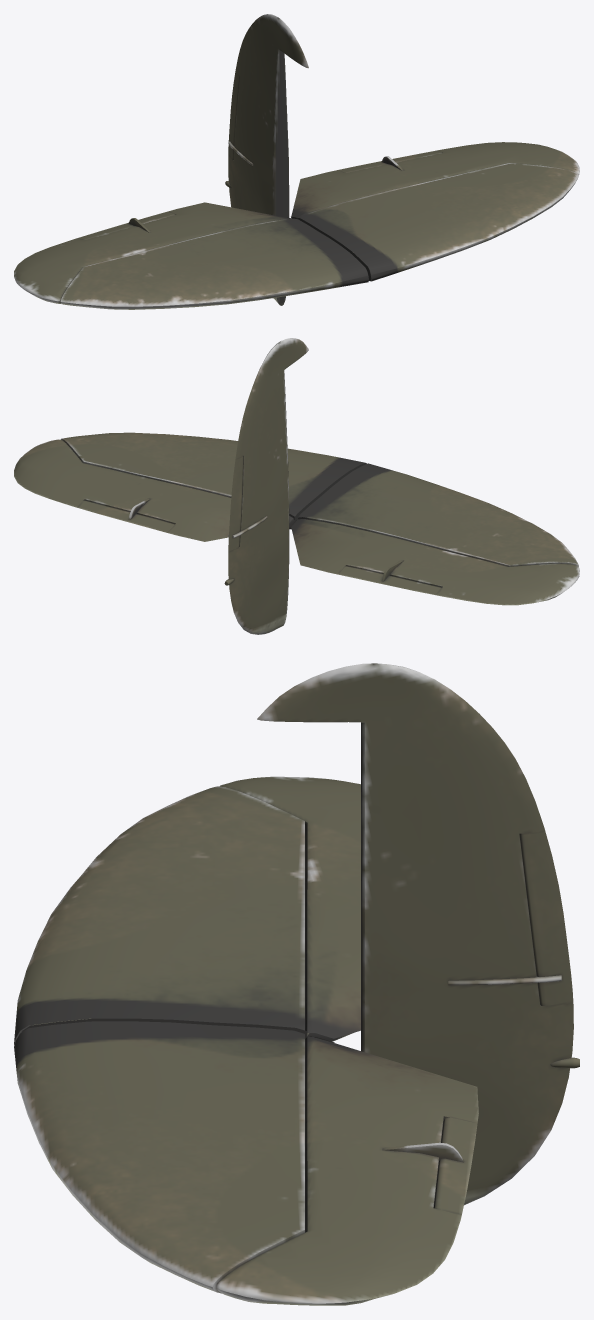
File: tail.fbx
The picture shows the model from 3 angles, top to bottom: view 1: azimuth 30°, elevation 25°; view 2: azimuth 150°, elevation 25°; view 3: azimuth 270°, elevation 25°; orthographic projection. The views are drawn at different scales.
Parts seen in each view (by area): view 1: Supermarine_Spitfire_Mk:Object_80, Supermarine_Spitfire_Mk:Object_90, Supermarine_Spitfire_Mk:Object_105, Supermarine_Spitfire_Mk:Object_108, Supermarine_Spitfire_Mk:Object_106; view 2: Supermarine_Spitfire_Mk:Object_80, Supermarine_Spitfire_Mk:Object_90, Supermarine_Spitfire_Mk:Object_105, Supermarine_Spitfire_Mk:Object_108, Supermarine_Spitfire_Mk:Object_106; view 3: Supermarine_Spitfire_Mk:Object_80, Supermarine_Spitfire_Mk:Object_105, Supermarine_Spitfire_Mk:Object_90, Supermarine_Spitfire_Mk:Object_106, Supermarine_Spitfire_Mk:Object_108.
Boxes of the visible parts, bbox=[...] form: Supermarine_Spitfire_Mk:Object_80: bbox=[60, 163, 578, 309]; Supermarine_Spitfire_Mk:Object_90: bbox=[14, 142, 579, 303]; Supermarine_Spitfire_Mk:Object_105: bbox=[228, 14, 308, 305]; Supermarine_Spitfire_Mk:Object_108: bbox=[77, 150, 441, 239]; Supermarine_Spitfire_Mk:Object_106: bbox=[228, 72, 239, 159]; Supermarine_Spitfire_Mk:Object_80: bbox=[61, 432, 578, 566]; Supermarine_Spitfire_Mk:Object_90: bbox=[14, 439, 579, 605]; Supermarine_Spitfire_Mk:Object_105: bbox=[228, 338, 308, 634]; Supermarine_Spitfire_Mk:Object_108: bbox=[77, 500, 441, 595]; Supermarine_Spitfire_Mk:Object_106: bbox=[228, 456, 243, 551]; Supermarine_Spitfire_Mk:Object_80: bbox=[14, 786, 306, 1293]; Supermarine_Spitfire_Mk:Object_105: bbox=[257, 663, 573, 1205]; Supermarine_Spitfire_Mk:Object_90: bbox=[216, 776, 478, 1305]; Supermarine_Spitfire_Mk:Object_106: bbox=[519, 832, 573, 1005]; Supermarine_Spitfire_Mk:Object_108: bbox=[434, 1117, 477, 1214].
Bounding box in the file's own units: 286 × 143 × 131.
